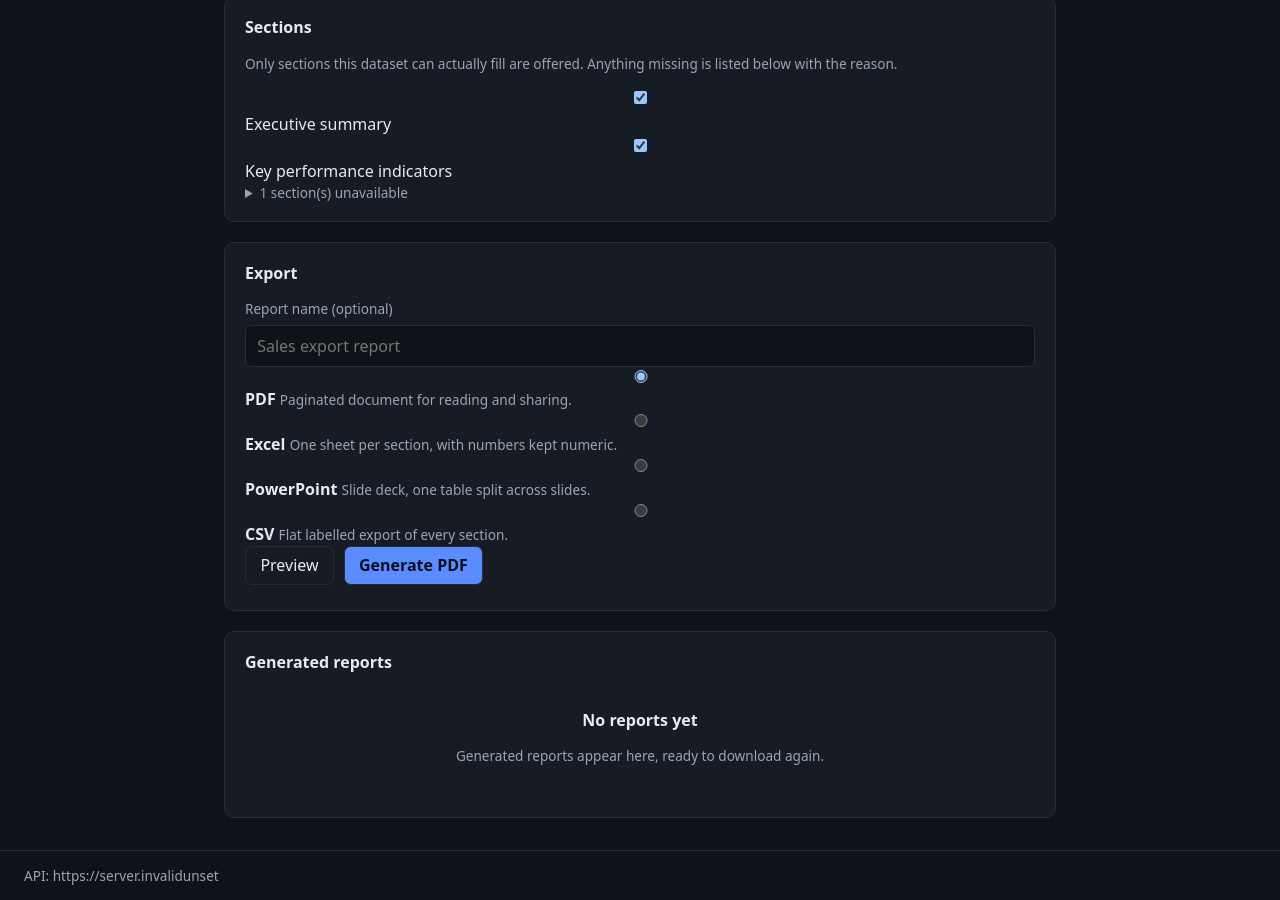
Test: DatasetReportsPage › confirms a generated report and shows it in the history
(page scrolled)
Expected: the element with test id "no-reports" is shown, [456,709,824,765]
Click the button "Generate PDF". click: x=413, y=565
box: [344,546,483,585]
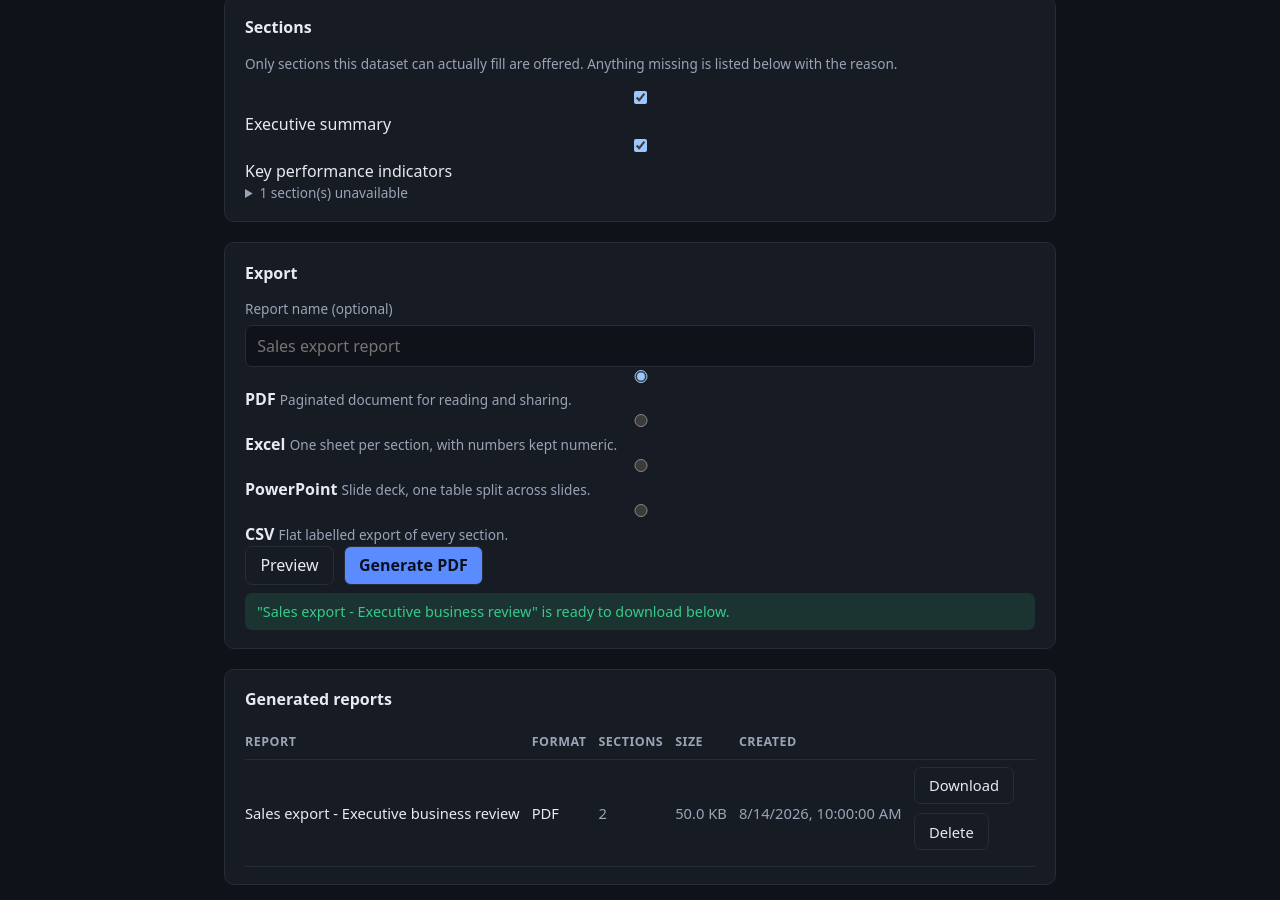
Now the text with test id "report-notice" shows "is ready to download", box [257,602,730,620]
Now the table with test id "report-history" is shown, box [245,726,1035,866]
Now the table with test id "report-history" shows "50.0 KB", box [675,803,727,823]
